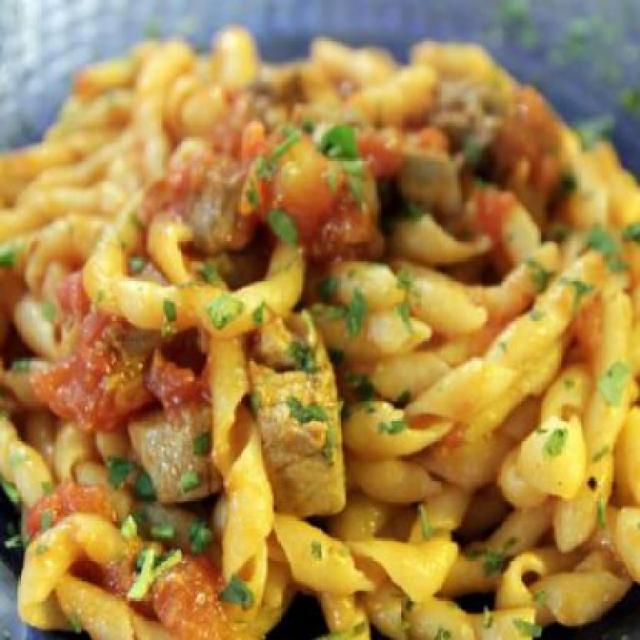Pasta al ragu: (9, 49, 626, 617)
